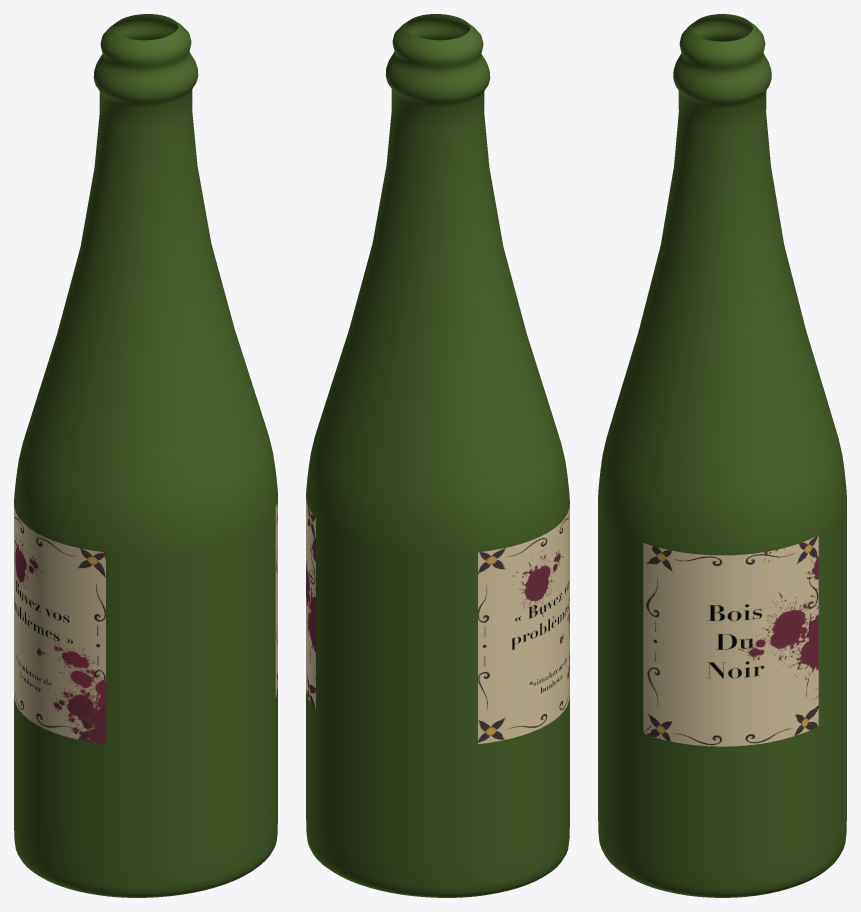
The model's file is boueille path of match 3.fbx.
3 renders of one model, left to right at view 1: azimuth 30°, elevation 25°; view 2: azimuth 150°, elevation 25°; view 3: azimuth 270°, elevation 25°, orthographic.
Parts seen in each view (by area): view 1: bouteille 1; view 2: bouteille 1; view 3: bouteille 1.
Boxes of the visible parts, x1,y1,x2,y2 form: bouteille 1: [14, 14, 277, 897]; bouteille 1: [306, 14, 569, 897]; bouteille 1: [598, 14, 846, 897].
Size of the model in its own units: 122 by 412 by 113.
3 materials, 2 textured.
